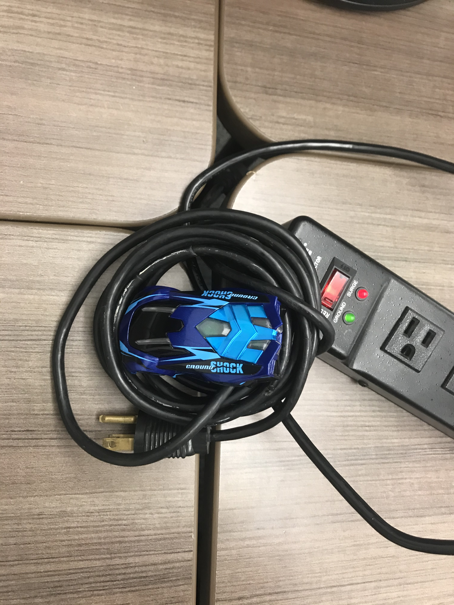Shock: (116, 284, 283, 383)
